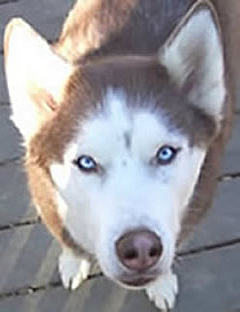dog: (2, 0, 239, 311)
